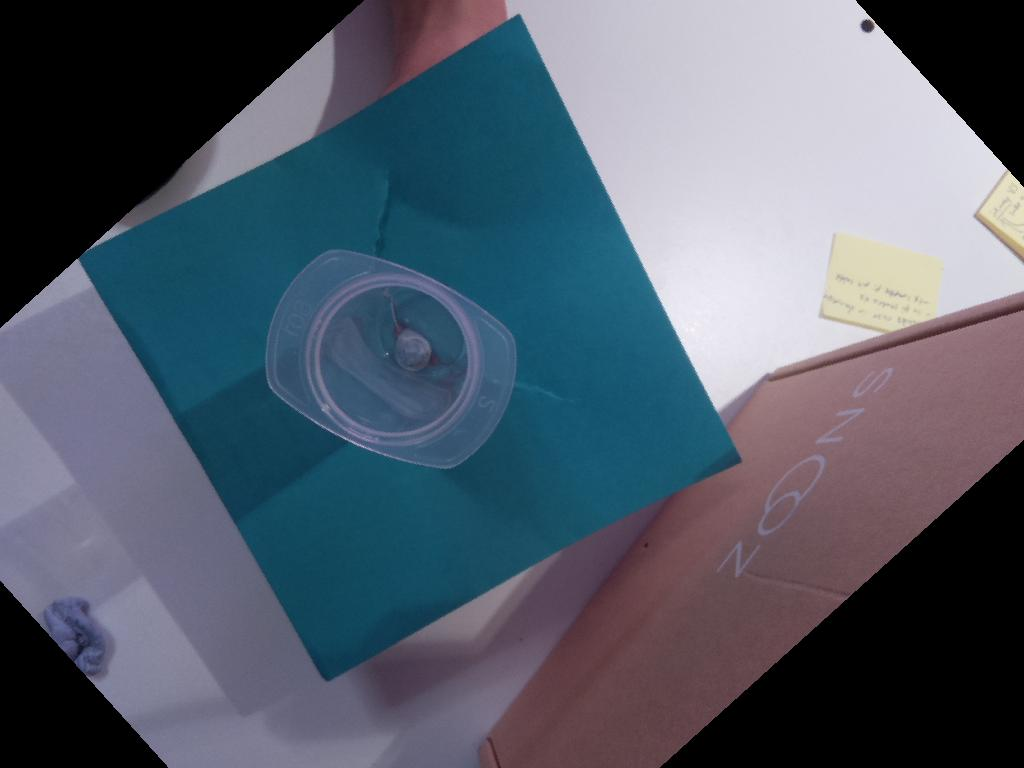clean: (264, 249, 518, 470)
